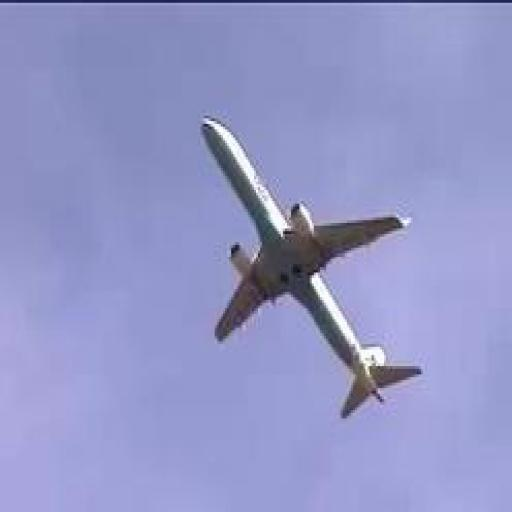aircraft: (198, 115, 425, 421)
